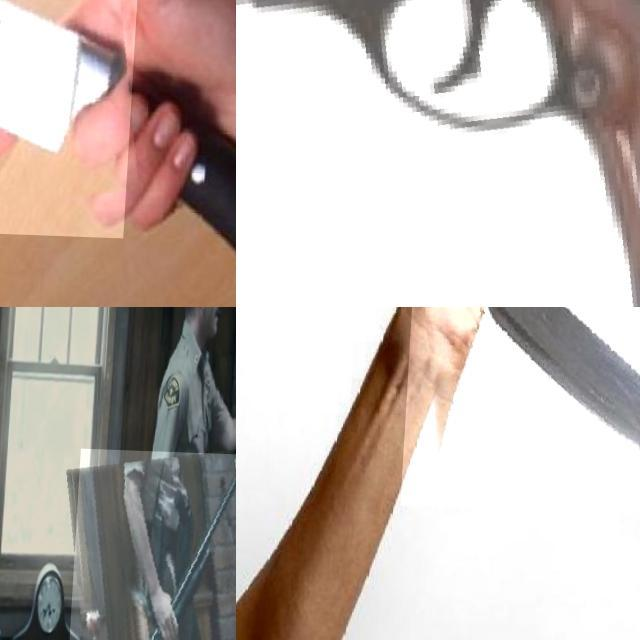-: (0, 0, 220, 234), (405, 307, 640, 511)
gun-knife-thesis - v11 Yolov5 augmented: (236, 0, 640, 307), (68, 446, 236, 640)
